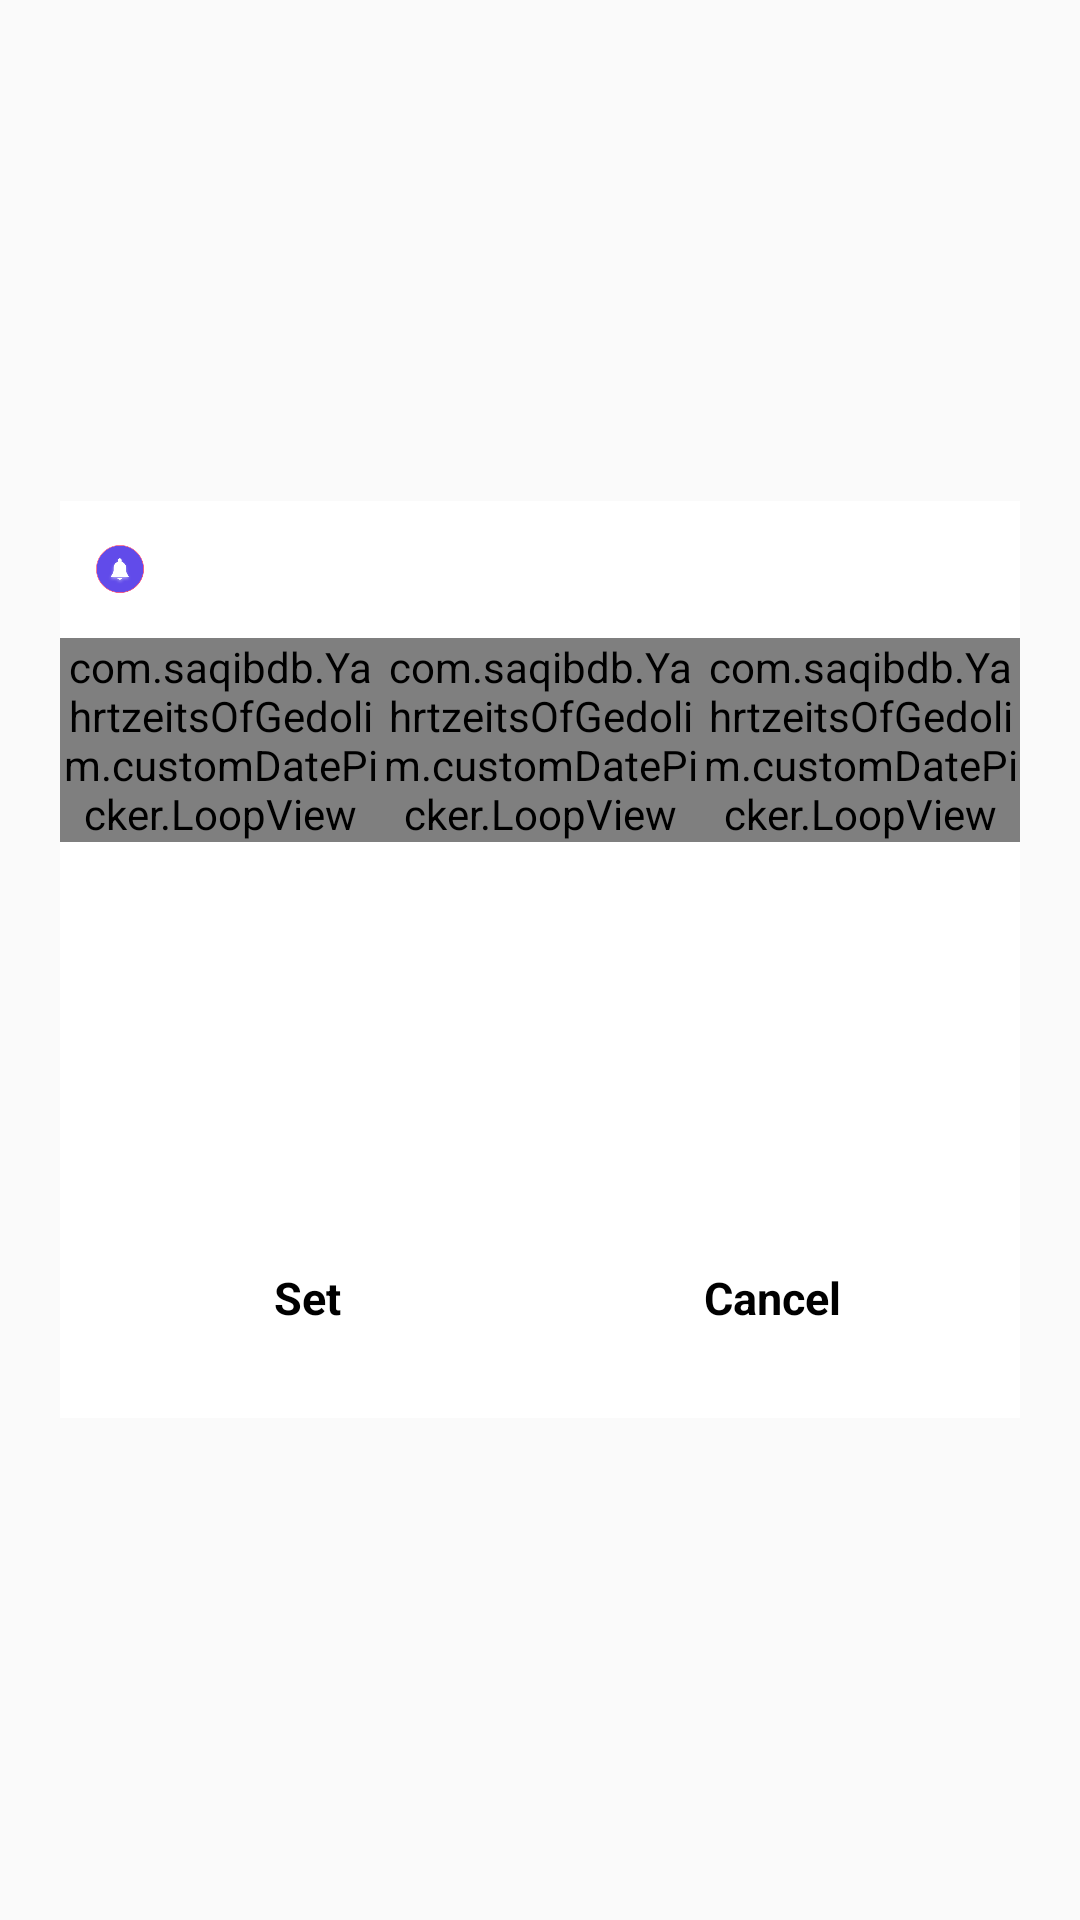

Point at icon controls on the screen. Image size 1080px x 1920px, points as [x,y].
notification on: [120,569]
